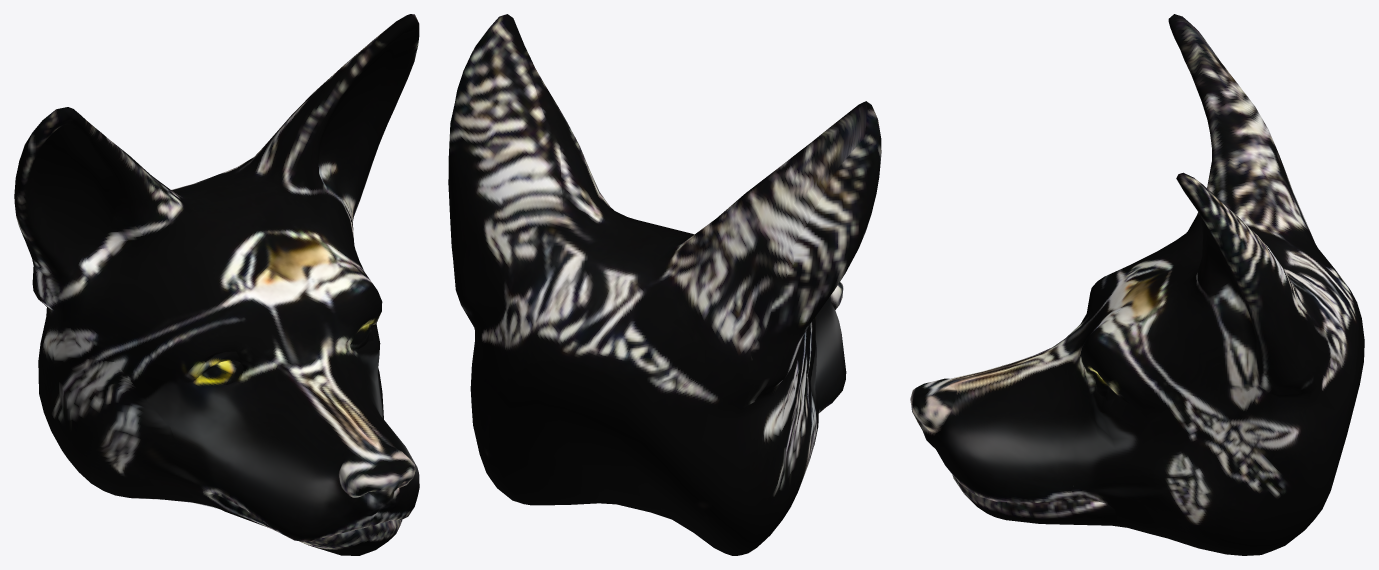
The model's file is xoloCabeza.obj.
3 renders of one model, left to right at view 1: azimuth 30°, elevation 25°; view 2: azimuth 150°, elevation 25°; view 3: azimuth 270°, elevation 25°, orthographic. The views are drawn at different scales.
Visible parts, largest first — view 1: cabeza; view 2: cabeza; view 3: cabeza.
Part boxes in pixels (bbox=[...]): cabeza: bbox=[14, 14, 419, 555]; cabeza: bbox=[448, 14, 881, 555]; cabeza: bbox=[910, 14, 1364, 555].
Size of the model in its own units: 0.377 by 0.3938 by 0.3883.
Materials: 1 (1 with a texture image).
